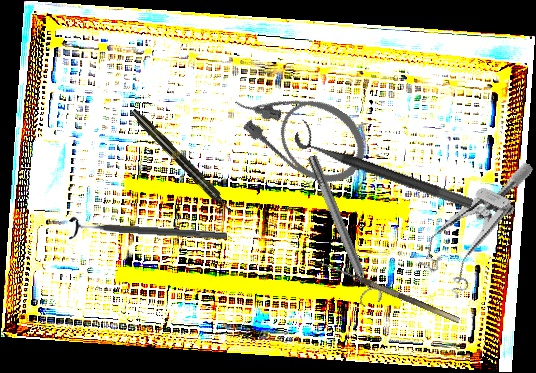Cannula: (221, 61, 379, 197)
Fixation Ring: (291, 118, 480, 211), (300, 150, 386, 310), (68, 215, 228, 249)
Handpiece: (128, 106, 236, 217)
Hook Surgical: (311, 257, 461, 331)
Speculum: (411, 139, 535, 305)
